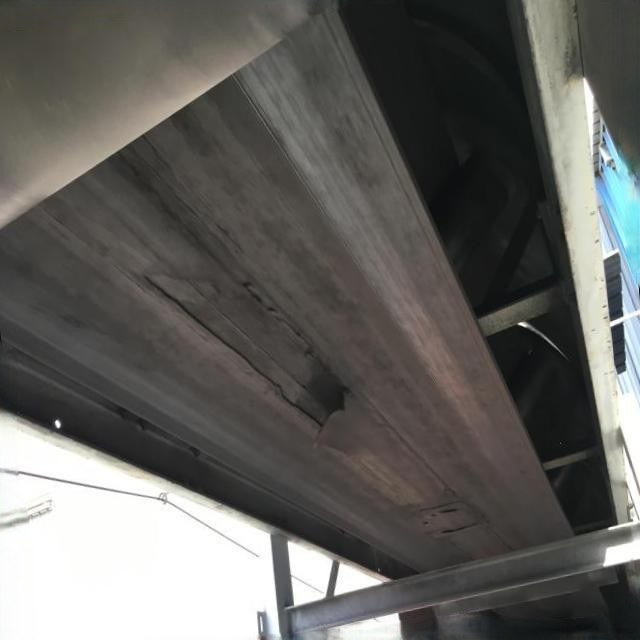Wear: (62, 132, 516, 559)
